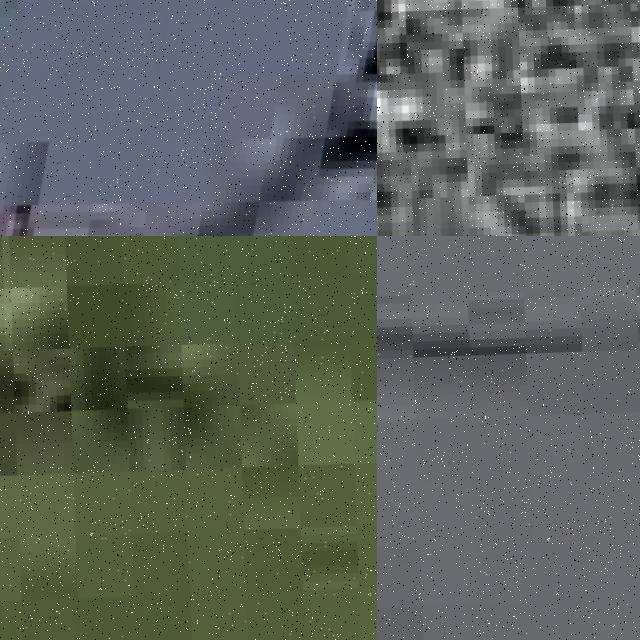drone: (0, 0, 377, 236)
